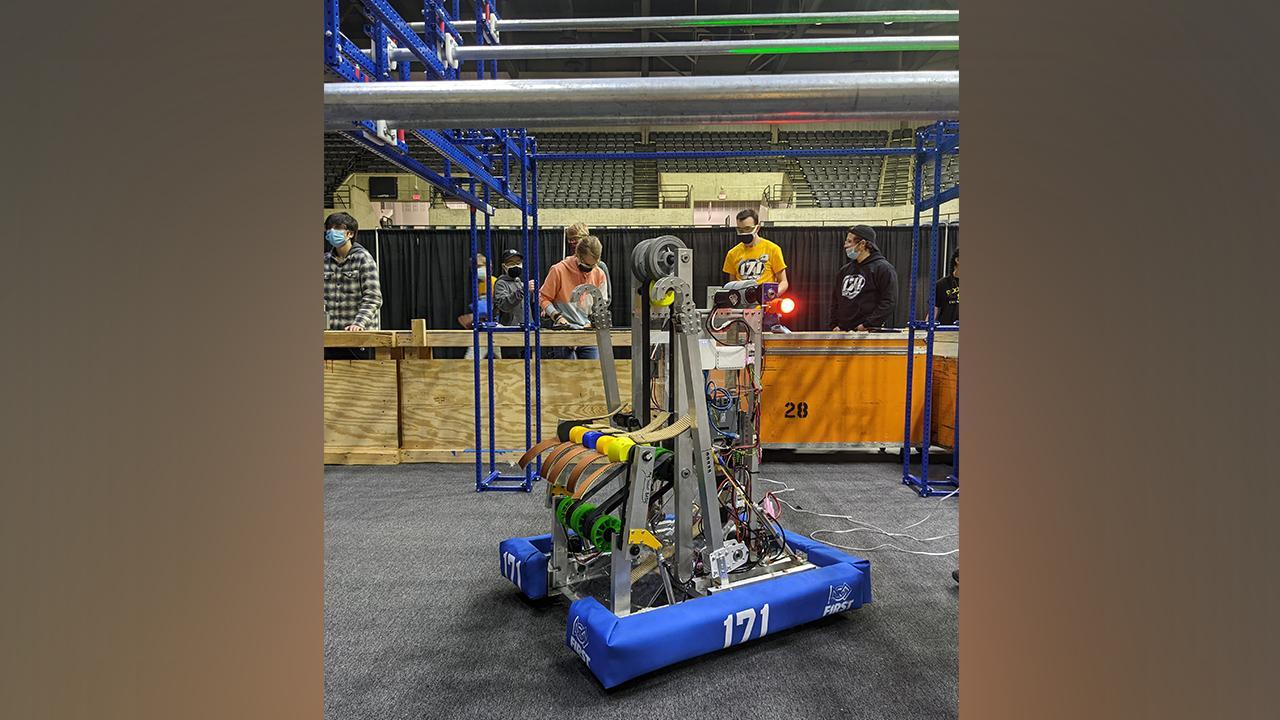robot: (495, 235, 878, 698)
